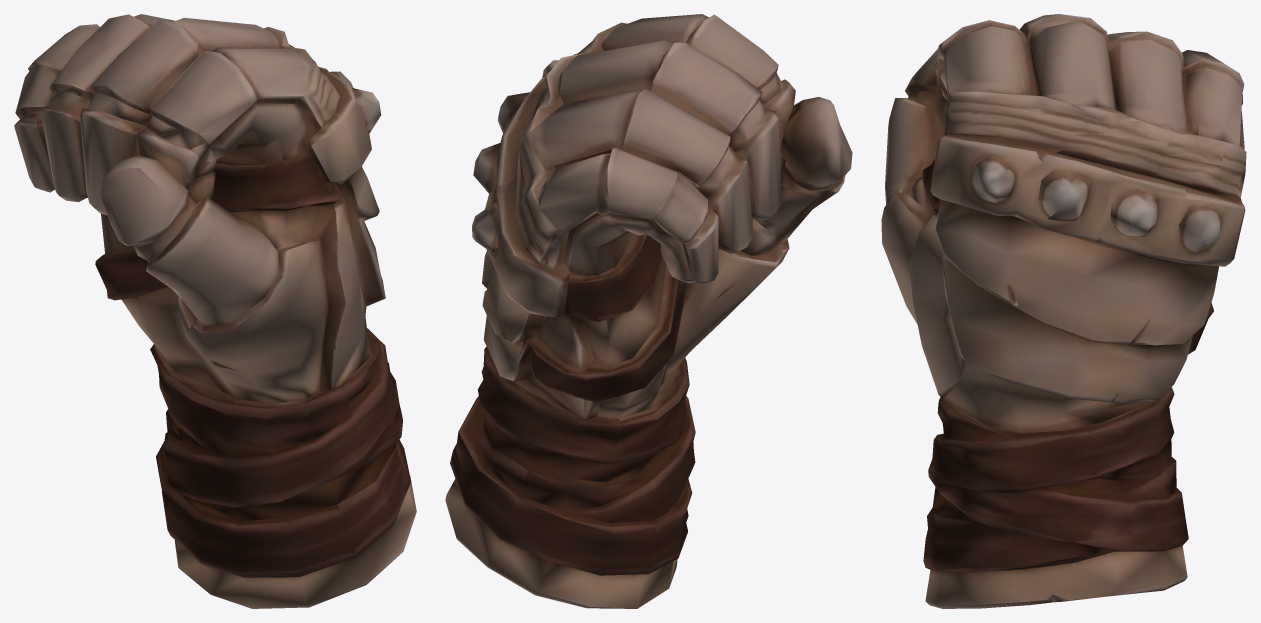
Rendered from brawler_gauntlet.glb.
3 renders of one model, left to right at view 1: azimuth 30°, elevation 25°; view 2: azimuth 150°, elevation 25°; view 3: azimuth 270°, elevation 25°, orthographic.
Parts seen in each view (by area): view 1: model; view 2: model; view 3: model.
Boxes of the visible parts, x1,y1,x2,y2 form: model: [14, 14, 416, 608]; model: [445, 14, 852, 608]; model: [881, 14, 1246, 608].
Bounding box in the file's own units: 0.6222 × 1 × 0.5928.
1 material, 1 textured.
